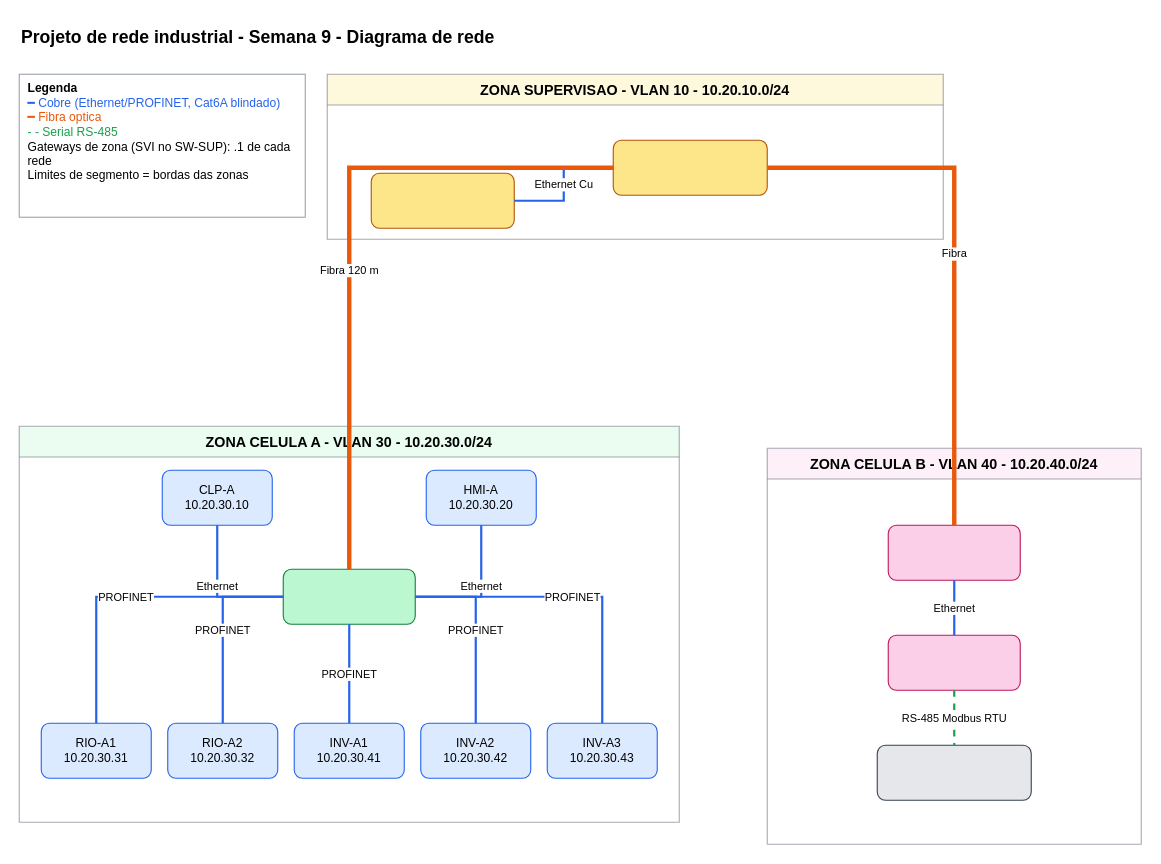
Image size: 1161x864. Some labels were removed from this diagram. The shapes that lost their labels are listed below. From the top down, each one's centre as x and y in pixels, then its label:
At (x=689, y=167): "SW-SUP (L3) 10.20.10.2".
At (x=442, y=200): "SCADA 10.20.10.20".
At (x=953, y=552): "SW-B 10.20.40.2".
At (x=348, y=596): "SW-A 10.20.30.2".
At (x=953, y=662): "GW-B 10.20.40.10".
At (x=953, y=772): "CTRL-B (legado) Modbus end. 5".
